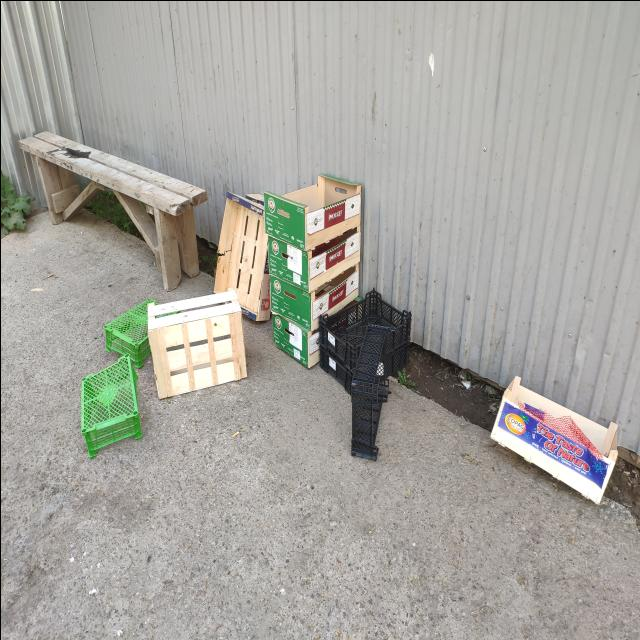entulho: (272, 174, 364, 370), (489, 378, 612, 503), (142, 290, 244, 406), (318, 286, 412, 392), (208, 190, 272, 316), (81, 357, 142, 462), (349, 323, 391, 461), (100, 297, 165, 365)
